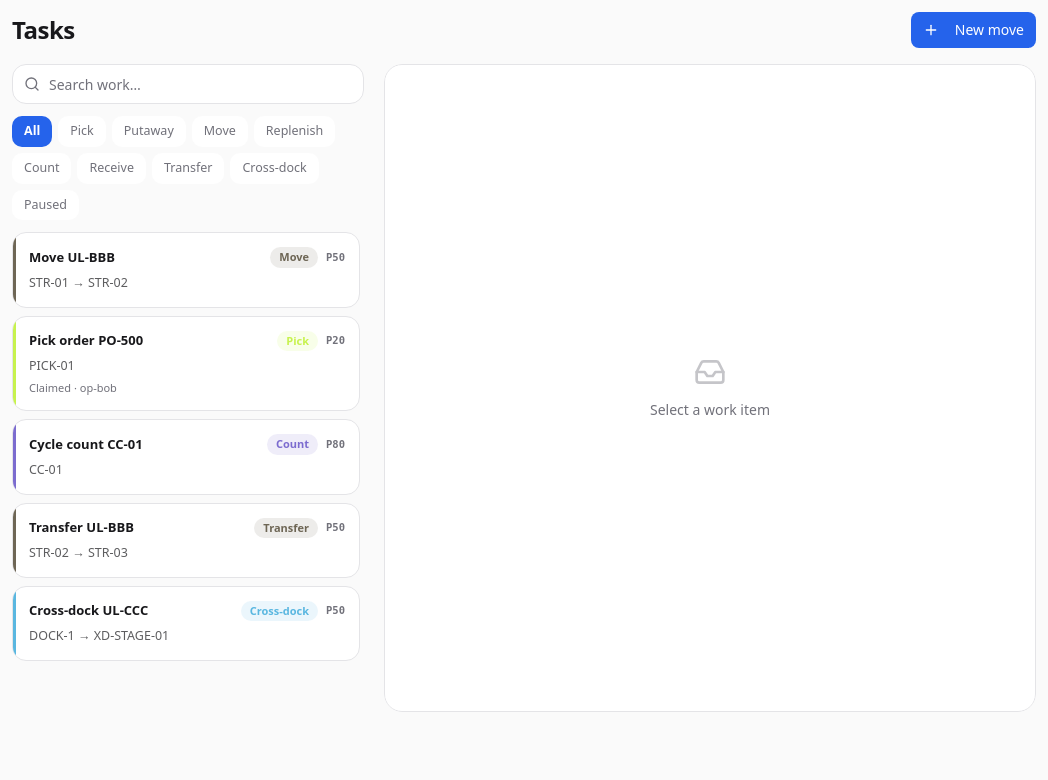
Scenario: TasksPage › selecting a TRANSFER item renders the transport pane too
Click the button with test id "work-row-TRANSFER:12".
click(81, 527)  # box [12,502,360,578]
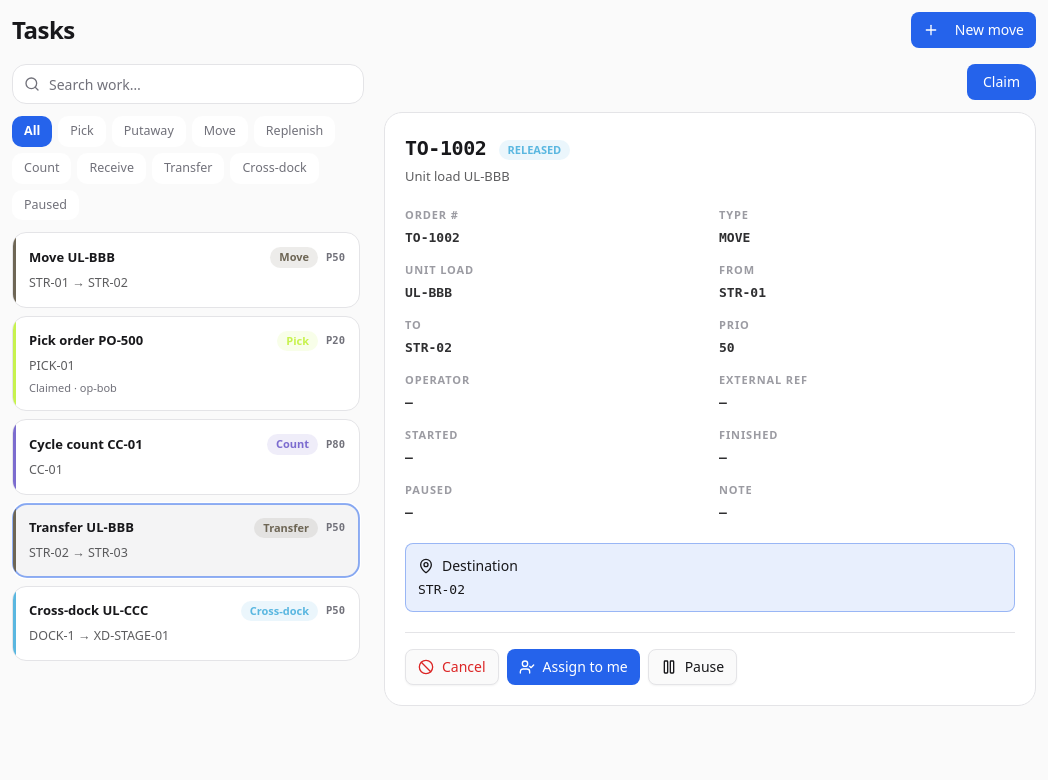
Check: the element with test id "task-detail-state" is shown, box [498,136,570,160]
